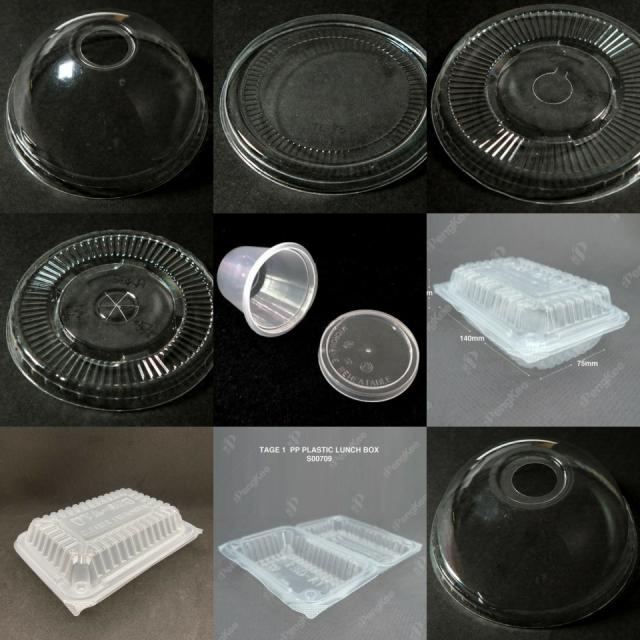Single-Use-Plastic: (432, 5, 640, 202), (430, 439, 638, 628), (6, 10, 208, 198), (220, 15, 425, 194), (6, 230, 211, 409), (14, 489, 202, 616), (434, 258, 629, 368), (219, 515, 422, 619), (216, 242, 318, 336), (319, 310, 419, 402)
